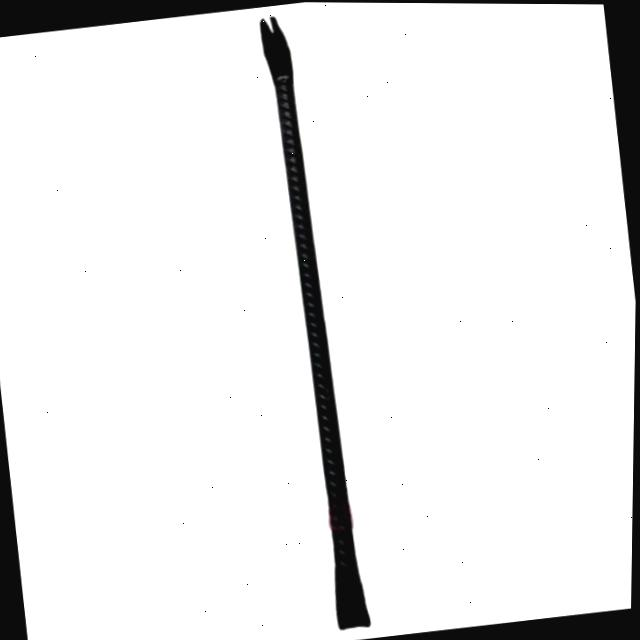crow bar: (256, 3, 380, 630)
